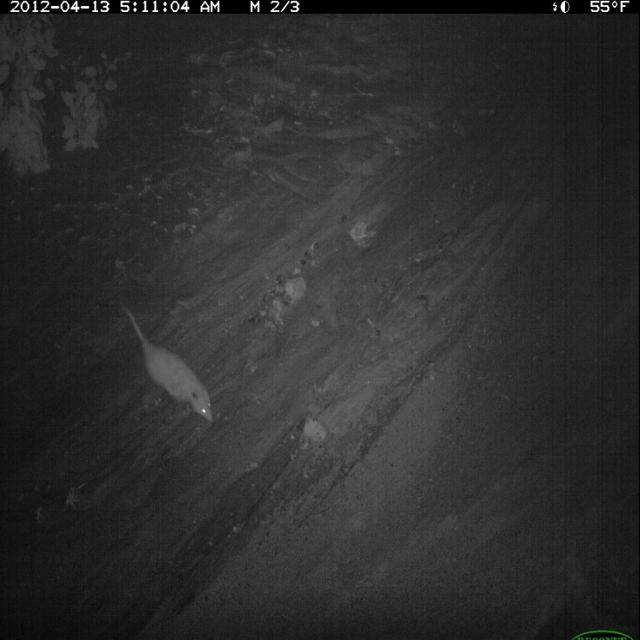opossum: (119, 298, 219, 430)
